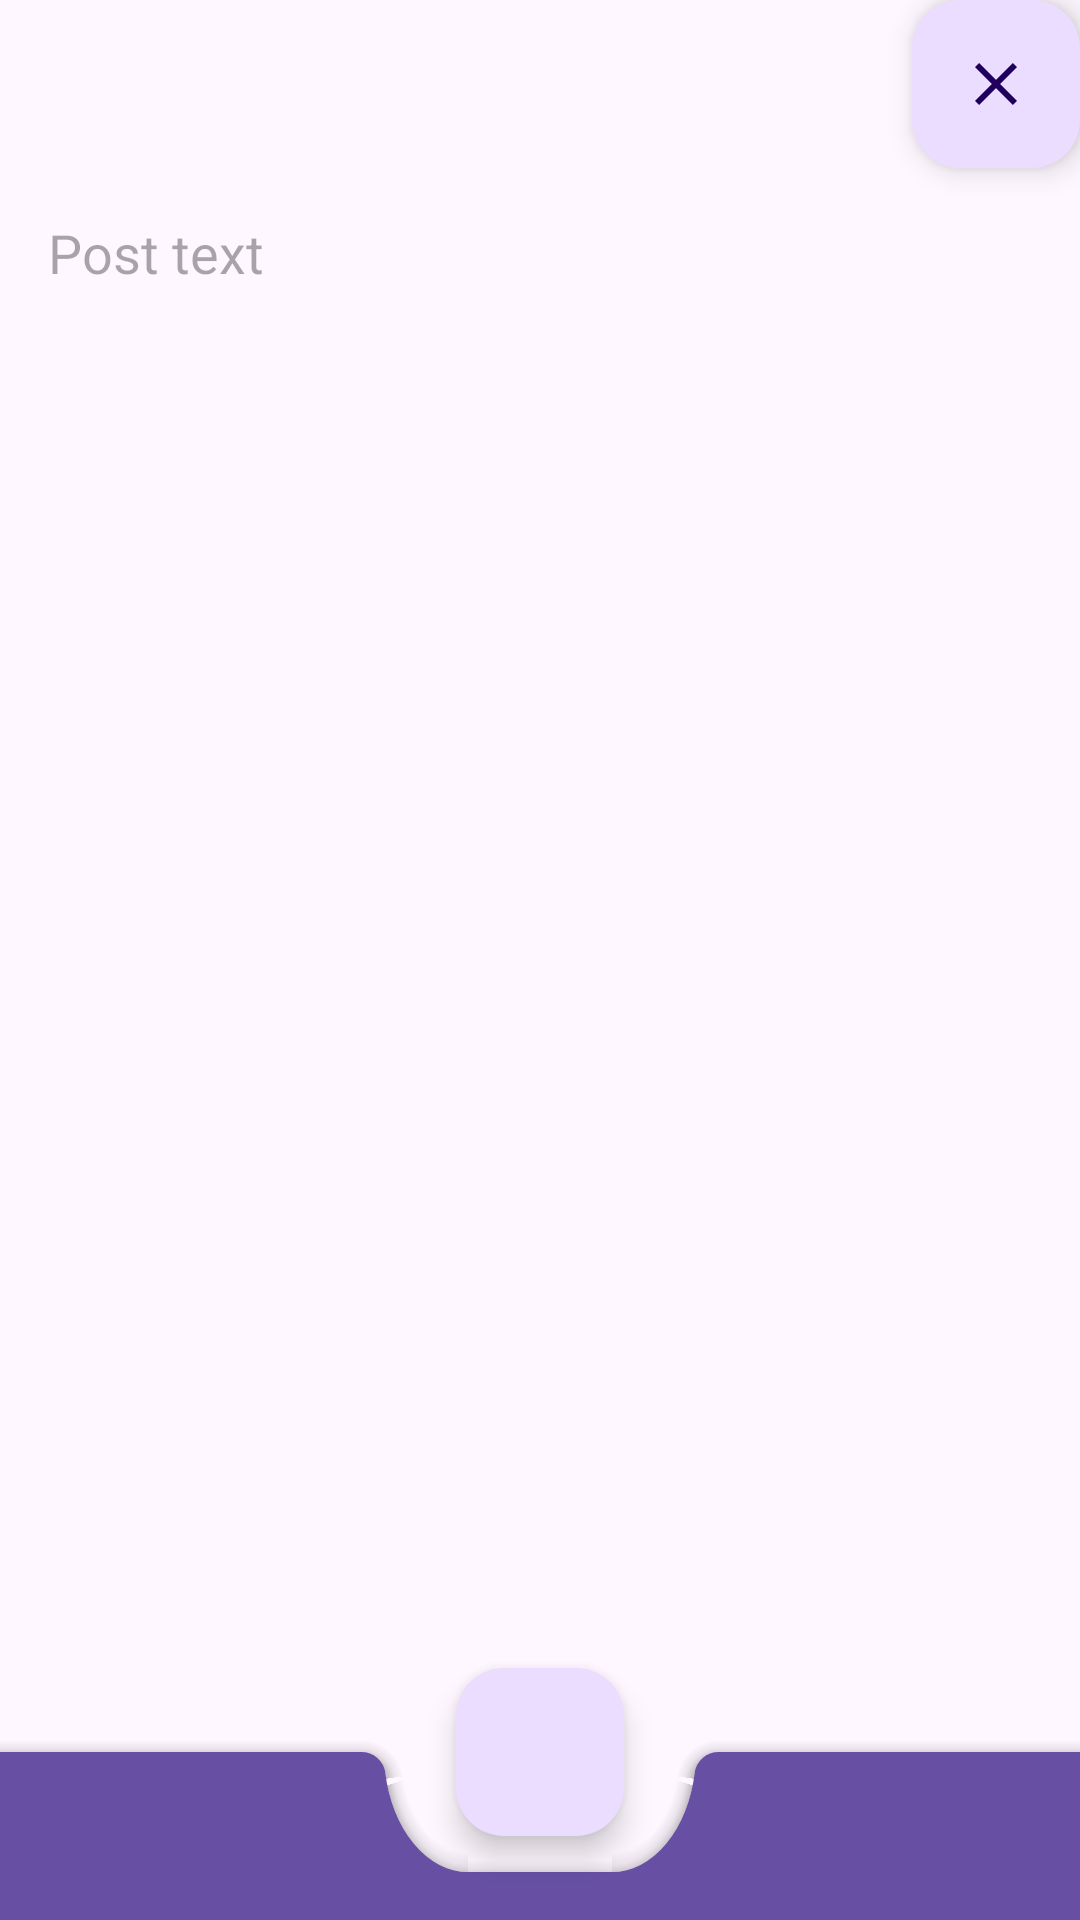

Named icons in this screenshot (1080x1920) and their centers, [x,y]:
close: [996,84]
